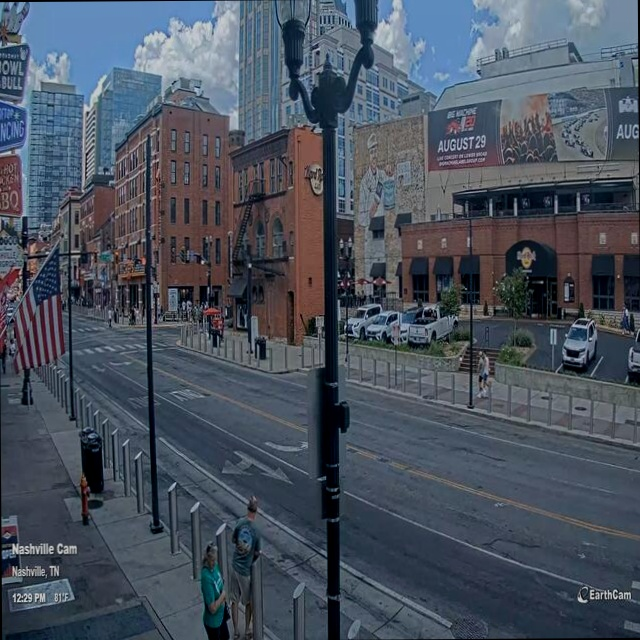Shorts: (224, 567, 259, 630), (477, 377, 489, 391)
